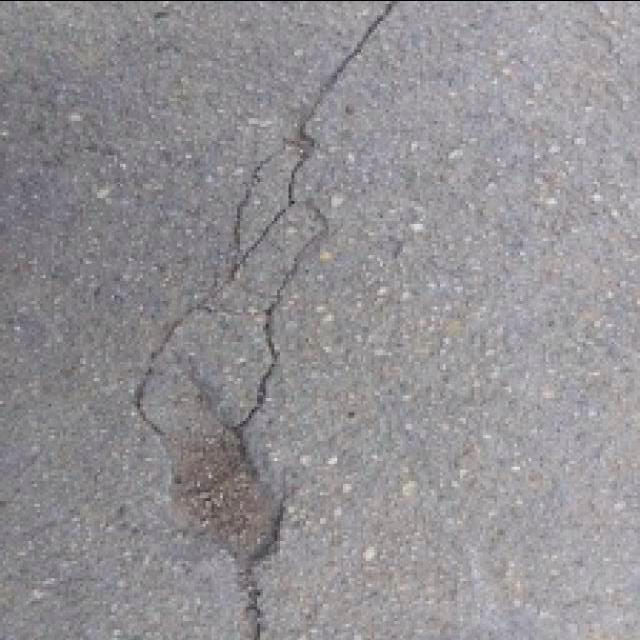SurfaceCrack: (124, 0, 422, 638)
